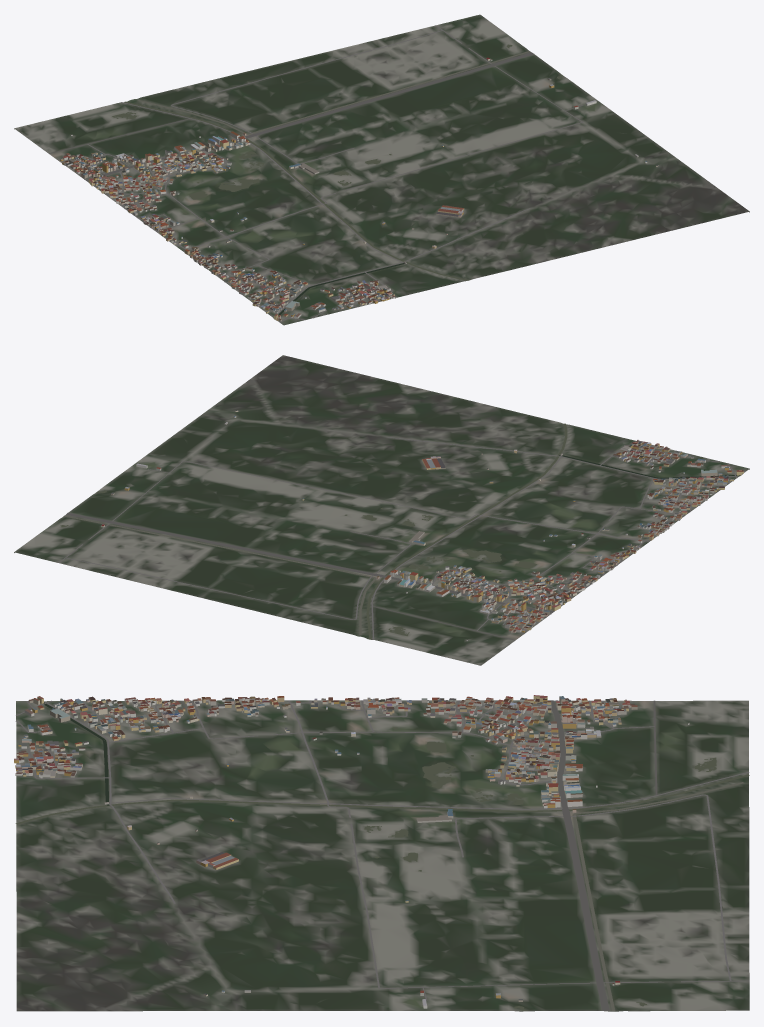
3 renders of one model, top to bottom at view 1: azimuth 30°, elevation 25°; view 2: azimuth 150°, elevation 25°; view 3: azimuth 270°, elevation 25°, orthographic. The views are drawn at different scales.
Parts seen in each view (by area): view 1: ground, buildings, roads, water; view 2: ground, buildings, roads, water; view 3: ground, buildings, roads, water.
Boxes of the visible parts, left/top/right/bottom form: ground: left=14, top=14, right=749, bottom=325; buildings: left=60, top=57, right=658, bottom=321; roads: left=48, top=25, right=583, bottom=322; water: left=112, top=44, right=563, bottom=315; ground: left=14, top=355, right=749, bottom=665; buildings: left=101, top=410, right=743, bottom=641; roads: left=58, top=437, right=745, bottom=640; water: left=60, top=423, right=740, bottom=639; ground: left=16, top=700, right=749, bottom=1011; buildings: left=14, top=695, right=689, bottom=1008; roads: left=15, top=700, right=749, bottom=1010; water: left=15, top=702, right=749, bottom=1011.
Size of the model in its own units: 1411 by 25.51 by 1408.
